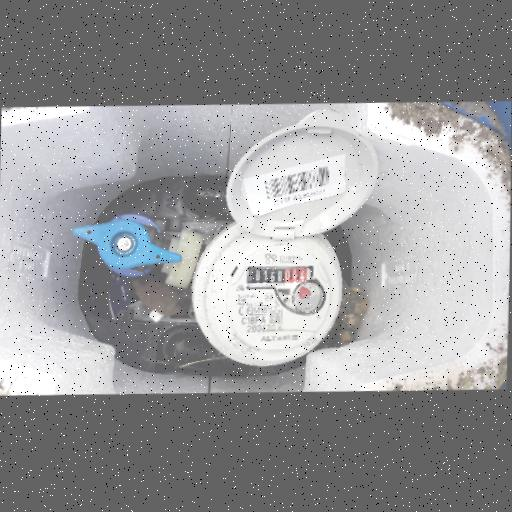0: (247, 269, 255, 284), (254, 269, 262, 284), (278, 269, 285, 283), (285, 269, 292, 283)
1: (262, 269, 270, 283)
4: (298, 268, 307, 282), (292, 268, 299, 282)
6: (269, 269, 277, 283)
border_water_meter_number: (245, 264, 313, 291)
